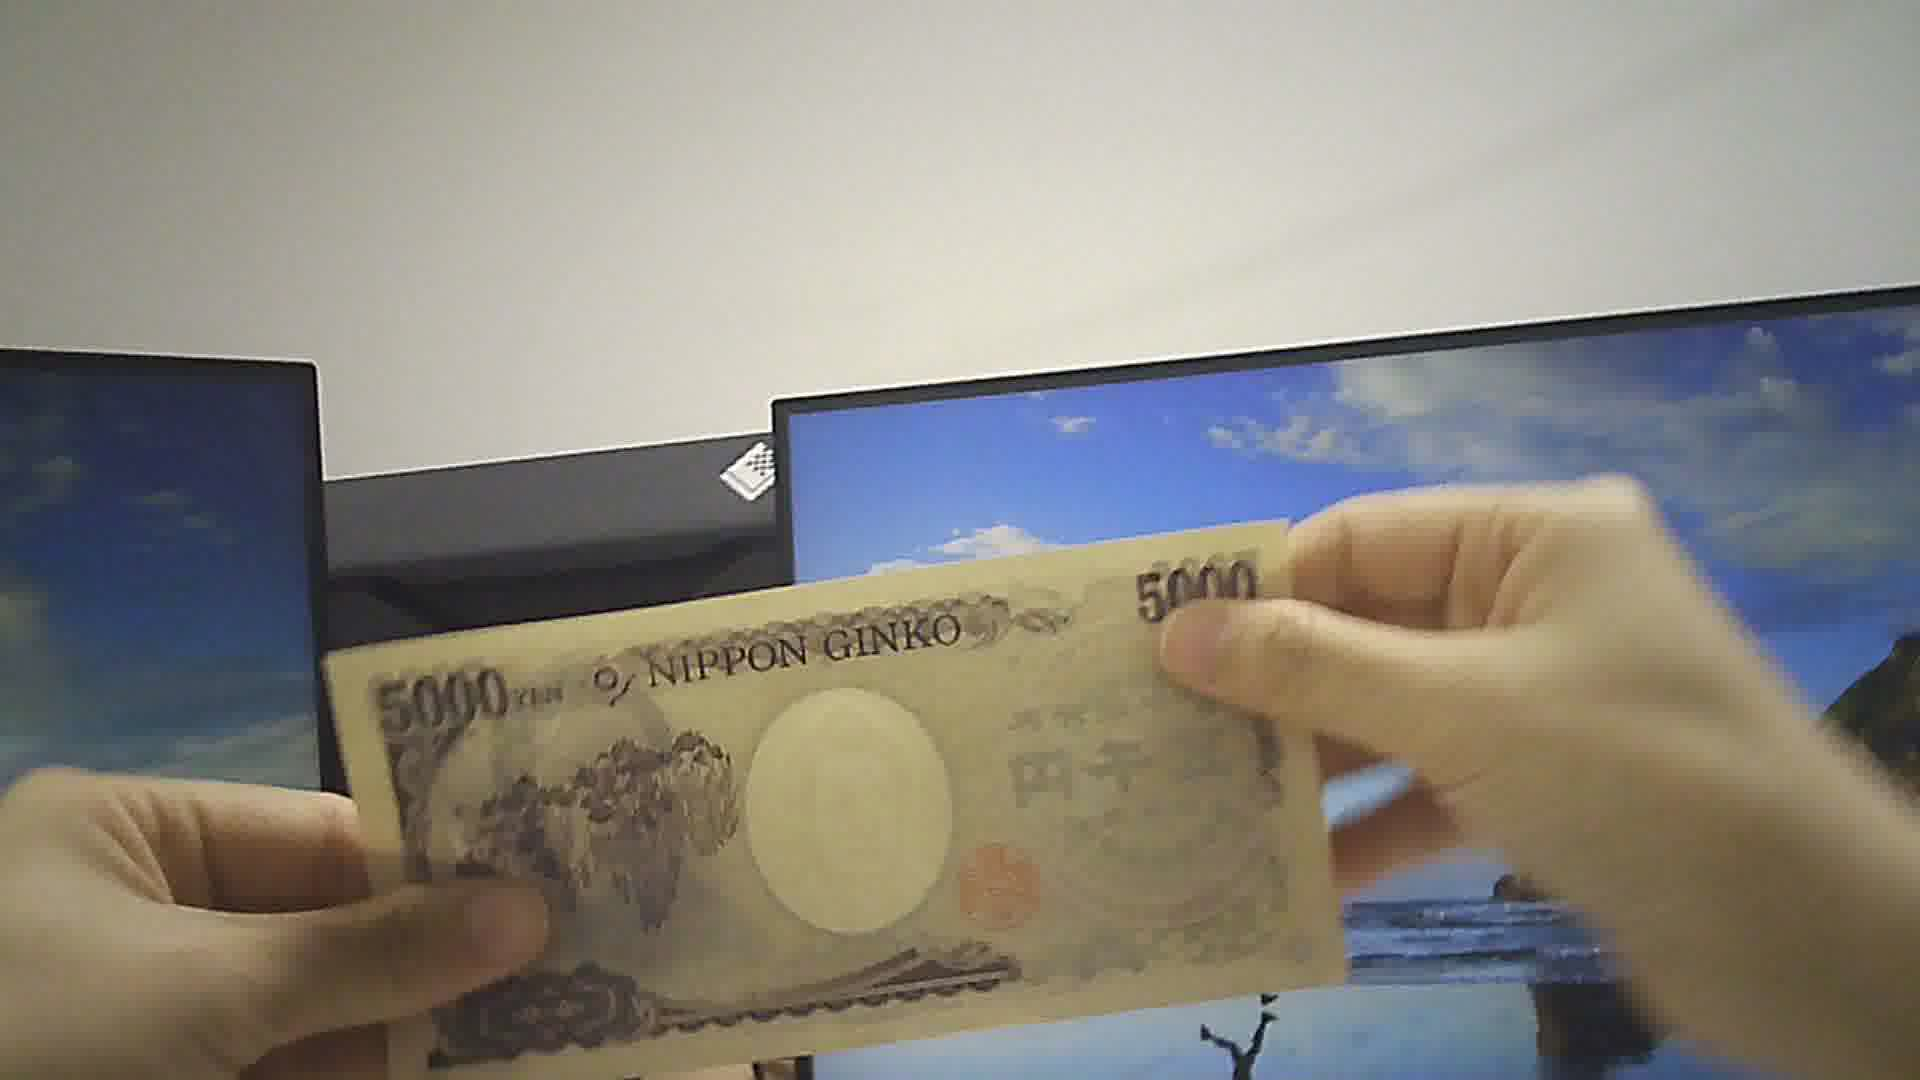5,000 Yen: (320, 534, 1411, 1065)
